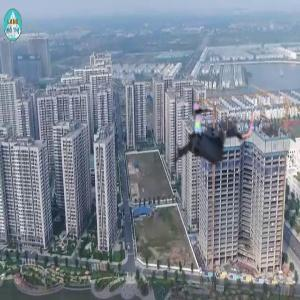drone: (164, 88, 261, 185)
